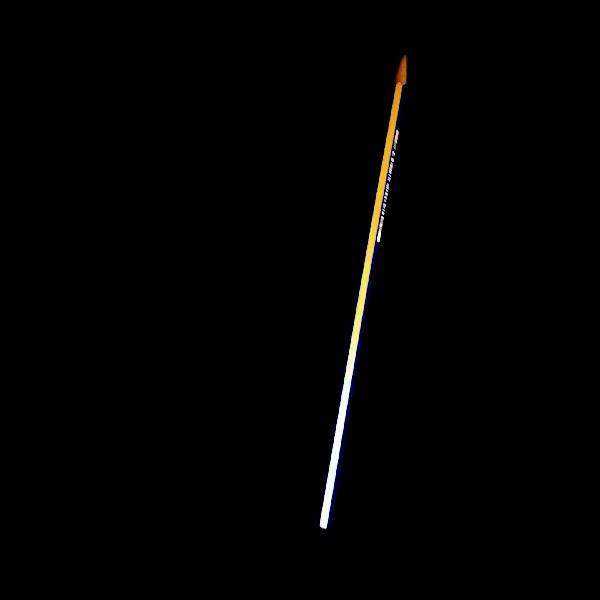pencil: (319, 56, 406, 528)
